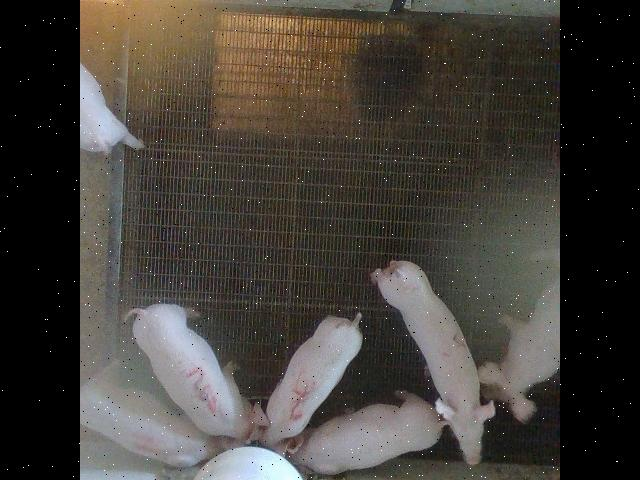pig-3: (128, 302, 254, 438)
pig-4: (81, 360, 230, 466)
pig-5: (249, 315, 362, 455)
